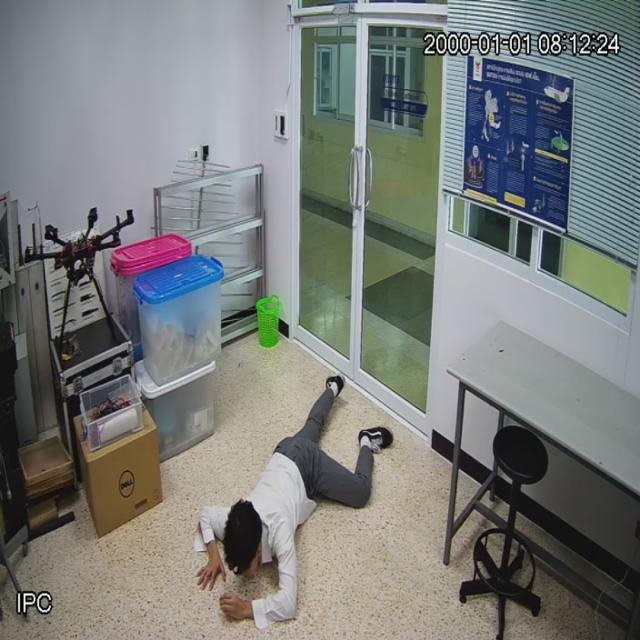fall: (200, 382, 377, 622)
